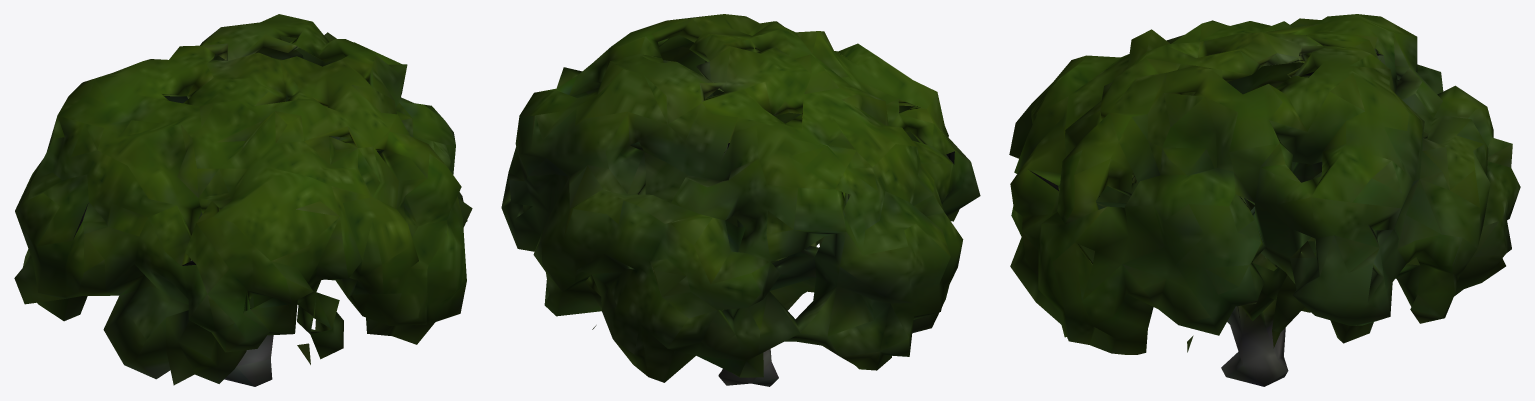
The model's file is tree_banyan.glb.
3 views of the same model, side by side, from view 1: azimuth 30°, elevation 25°; view 2: azimuth 150°, elevation 25°; view 3: azimuth 270°, elevation 25° (orthographic). The views are drawn at different scales.
Parts seen in each view (by area): view 1: tree_banyan; view 2: tree_banyan; view 3: tree_banyan.
Boxes of the visible parts, bbox=[...] form: tree_banyan: bbox=[14, 14, 472, 386]; tree_banyan: bbox=[501, 14, 980, 386]; tree_banyan: bbox=[1009, 14, 1520, 386].
Size of the model in its own units: 11.39 by 8.61 by 11.42.
Materials: 1 (1 with a texture image).
